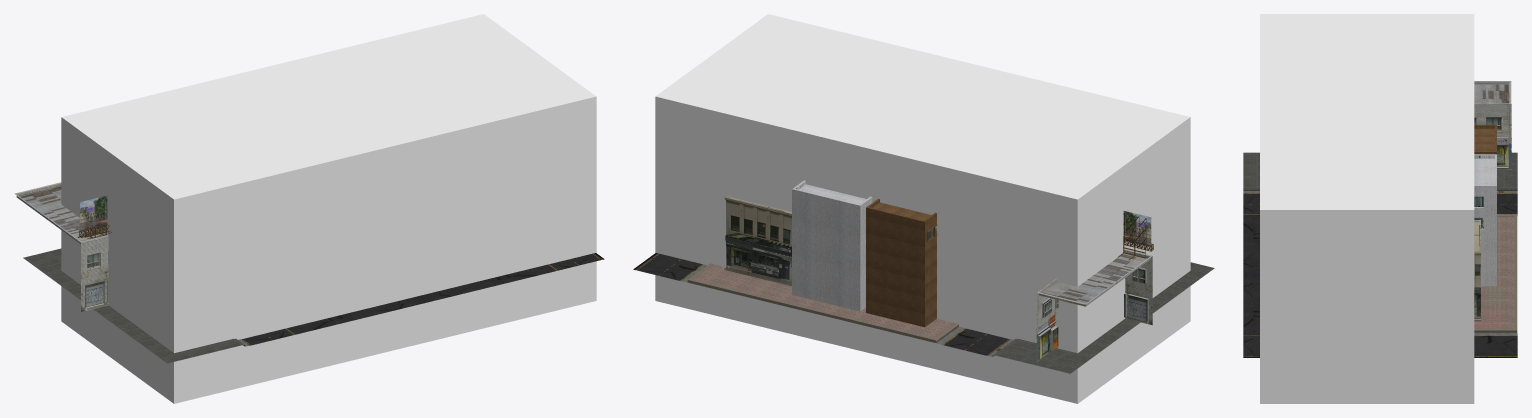
Rendered from seoul-block.glb.
3 renders of one model, left to right at view 1: azimuth 30°, elevation 25°; view 2: azimuth 150°, elevation 25°; view 3: azimuth 270°, elevation 25°, orthographic. The views are drawn at different scales.
Visible parts, largest first — view 1: fog, Plane.018, Cube.007, Plane.004, Plane.005, Cube.013; view 2: fog, Cube.002, Plane.002, Plane.018, Plane, Cube.007, Plane.001, Plane.022, Plane.004, Plane.005, Cube.013; view 3: fog, Plane.001, Cube.002, Plane.004, Plane.018, Plane.005, Cube.007, Plane, Plane.002, Plane.022.
Boxes of the visible parts, x1,y1,x2,y2 form: fog: [61, 14, 596, 403]; Plane.018: [14, 182, 108, 311]; Cube.007: [23, 248, 249, 363]; Plane.004: [417, 253, 604, 302]; Plane.005: [242, 296, 425, 345]; Cube.013: [80, 195, 107, 231]; fog: [655, 14, 1190, 403]; Cube.002: [792, 180, 872, 311]; Plane.002: [866, 198, 937, 327]; Plane.018: [1036, 249, 1152, 361]; Plane: [724, 195, 791, 286]; Cube.007: [988, 262, 1214, 373]; Plane.001: [692, 264, 955, 338]; Plane.022: [687, 263, 958, 342]; Plane.004: [633, 253, 703, 280]; Plane.005: [943, 328, 1009, 355]; Cube.013: [1123, 211, 1151, 246]; fog: [1260, 14, 1474, 403]; Plane.001: [1474, 216, 1514, 328]; Cube.002: [1474, 154, 1496, 286]; Plane.004: [1243, 275, 1517, 357]; Plane.018: [1474, 81, 1511, 169]; Plane.005: [1243, 193, 1517, 274]; Cube.007: [1243, 152, 1517, 193]; Plane: [1474, 220, 1480, 321]; Plane.002: [1474, 124, 1496, 154]; Plane.022: [1474, 215, 1517, 332].
Size of what is drawn, in the model's own units: 18.2 by 7.89 by 10.11.
Materials: 57 (49 with a texture image).
